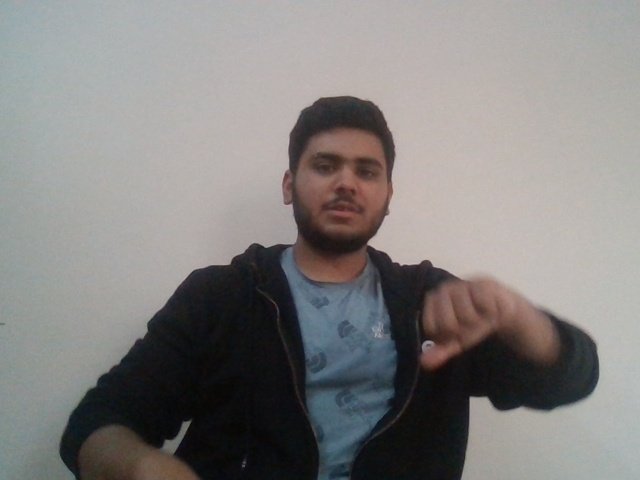No: (410, 277, 517, 367)
